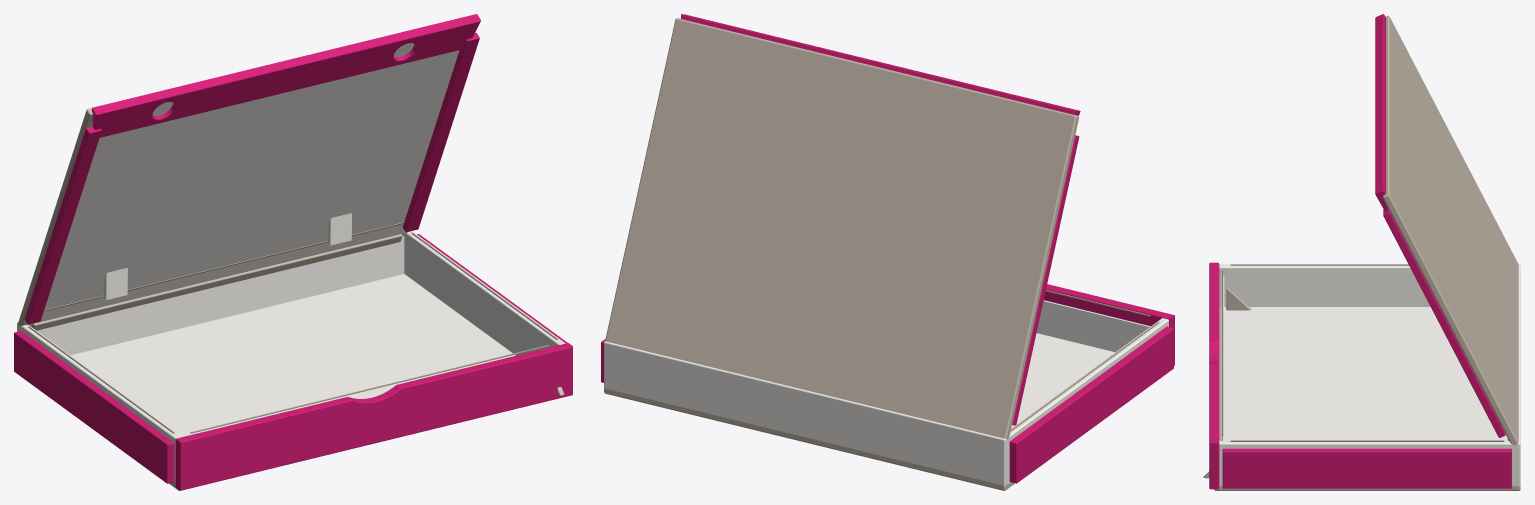
File: kehong-reference-pizza-box.glb
3 views of the same model, side by side, from view 1: azimuth 30°, elevation 25°; view 2: azimuth 150°, elevation 25°; view 3: azimuth 270°, elevation 25° (orthographic). The views are drawn at different scales.
Visible parts, largest first — view 1: lid white inner sheet, food-contact base liner, front printed wall with thumb notch, perforated magenta closure flap, rear hinge wall, left printed outer return, right inner tray wall, left folded magenta lid return, right folded magenta lid return, rear hinge barrel, left inner tray wall, lid paperboard edge core (+4 smaller); view 2: lid paperboard edge core, rear hinge wall, left printed outer return, food-contact base liner, front white inner face, perforated magenta closure flap, lower tray substrate, front printed wall with thumb notch, left inner tray wall, left folded magenta lid return; view 3: food-contact base liner, lid paperboard edge core, right printed outer return, left inner tray wall, front printed wall with thumb notch, right inner tray wall, right folded magenta lid return, perforated magenta closure flap, lower tray substrate, rear hinge wall, right tray fold score, left tray fold score (+1 smaller).
Boxes of the visible parts, x1,y1,x2,y2 form: lid white inner sheet: (27,43,459,324); food-contact base liner: (71,274,515,436); front printed wall with thumb notch: (175,343,572,490); perforated magenta closure flap: (91,14,480,137); rear hinge wall: (17,235,404,355); left printed outer return: (14,331,174,483); right inner tray wall: (404,231,565,355); left folded magenta lid return: (24,127,101,324); right folded magenta lid return: (402,33,479,232); rear hinge barrel: (31,234,402,330); left inner tray wall: (18,325,181,483); lid paperboard edge core: (18,32,475,326); lid paperboard edge core: (605,18,1078,439); rear hinge wall: (604,341,1006,486); left printed outer return: (1009,326,1173,483); food-contact base liner: (1011,333,1114,428); front white inner face: (1036,300,1150,352); perforated magenta closure flap: (681,14,1080,115); lower tray substrate: (604,388,1014,490); front printed wall with thumb notch: (1044,284,1174,365); left inner tray wall: (1007,318,1168,484); left folded magenta lid return: (1012,135,1079,425); food-contact base liner: (1222,307,1507,440); lid paperboard edge core: (1383,15,1518,444); right printed outer return: (1222,448,1511,488); left inner tray wall: (1219,264,1430,307); front printed wall with thumb notch: (1209,262,1219,489); right inner tray wall: (1219,441,1516,486); right folded magenta lid return: (1383,209,1505,437); perforated magenta closure flap: (1375,14,1388,211); lower tray substrate: (1214,308,1520,490); rear hinge wall: (1514,264,1520,487); right tray fold score: (1230,440,1504,441); left tray fold score: (1230,264,1408,265).
Size of the model in its own units: 6.22 by 4.66 by 4.47.
